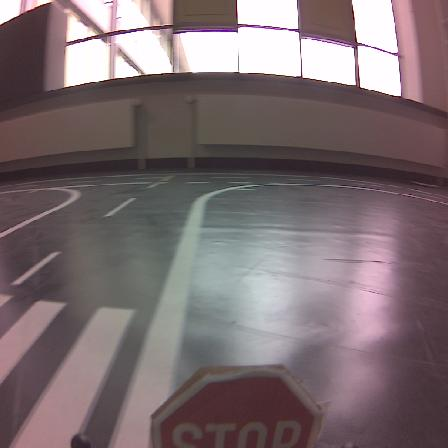STOP: (151, 366, 322, 447)
